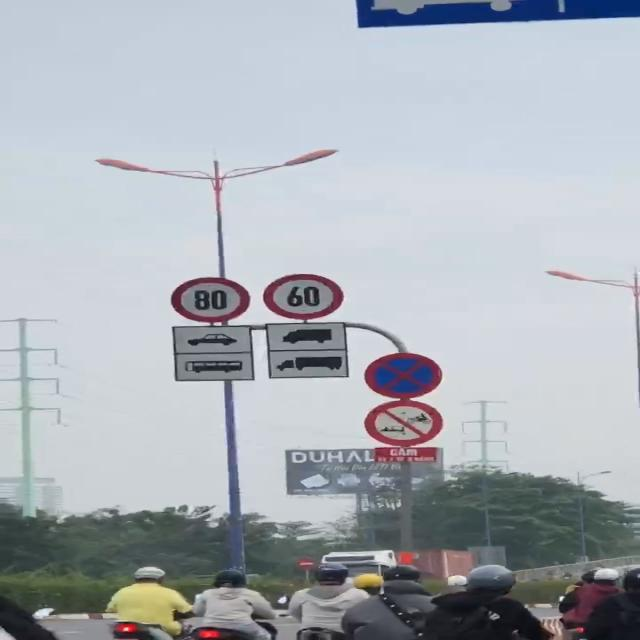Bien bao cam dung xe va do xe: (364, 352, 443, 398)
Bien bao toc do toi da cho phep: (260, 272, 348, 321), (170, 275, 251, 324)
